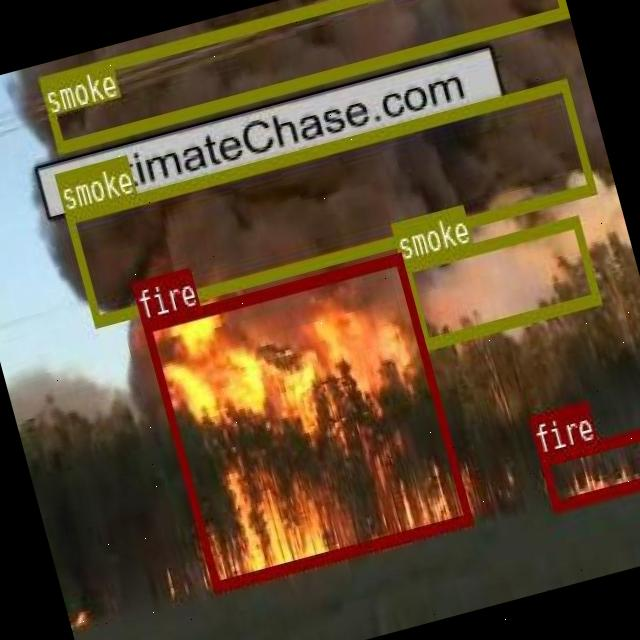fire: (141, 251, 472, 592), (537, 424, 640, 509)
smoke: (63, 77, 595, 326), (37, 0, 566, 150), (400, 214, 598, 348)
